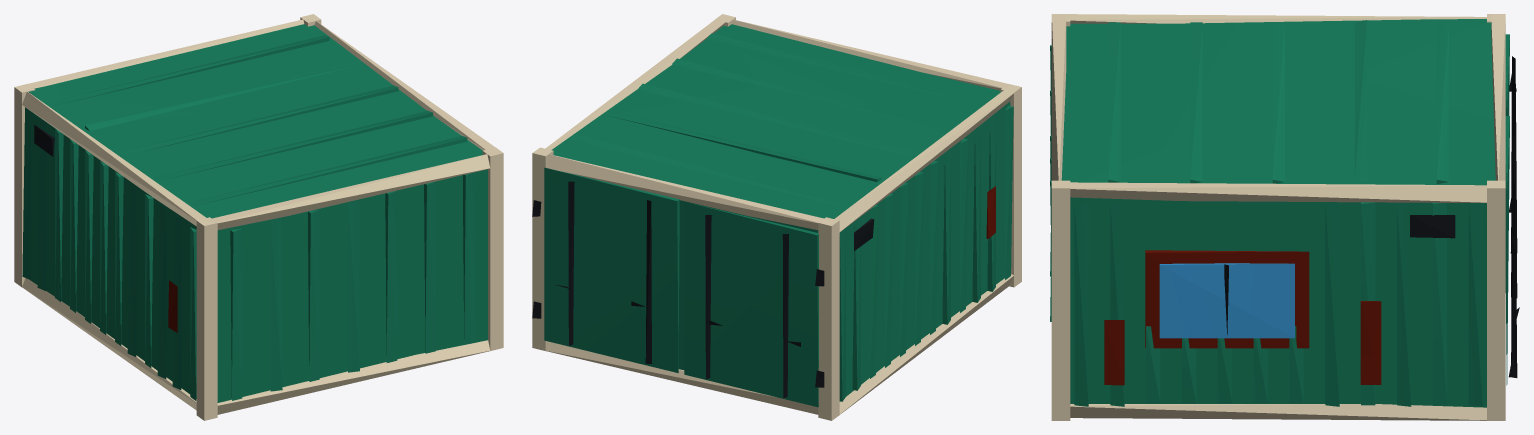
The model's file is tb_upg_container_cabin.three-web-toon.lod50.glb.
3 views of the same model, side by side, from view 1: azimuth 30°, elevation 25°; view 2: azimuth 150°, elevation 25°; view 3: azimuth 270°, elevation 25° (orthographic). The views are drawn at different scales.
Parts seen in each view (by area): view 1: tb_upg_container_cabin_mesh_lod; view 2: tb_upg_container_cabin_mesh_lod; view 3: tb_upg_container_cabin_mesh_lod.
Boxes of the visible parts, bbox=[...] form: tb_upg_container_cabin_mesh_lod: bbox=[14, 14, 503, 420]; tb_upg_container_cabin_mesh_lod: bbox=[532, 14, 1021, 420]; tb_upg_container_cabin_mesh_lod: bbox=[1050, 14, 1519, 420].
Size of the model in its own units: 2.06 by 1.26 by 2.29.
